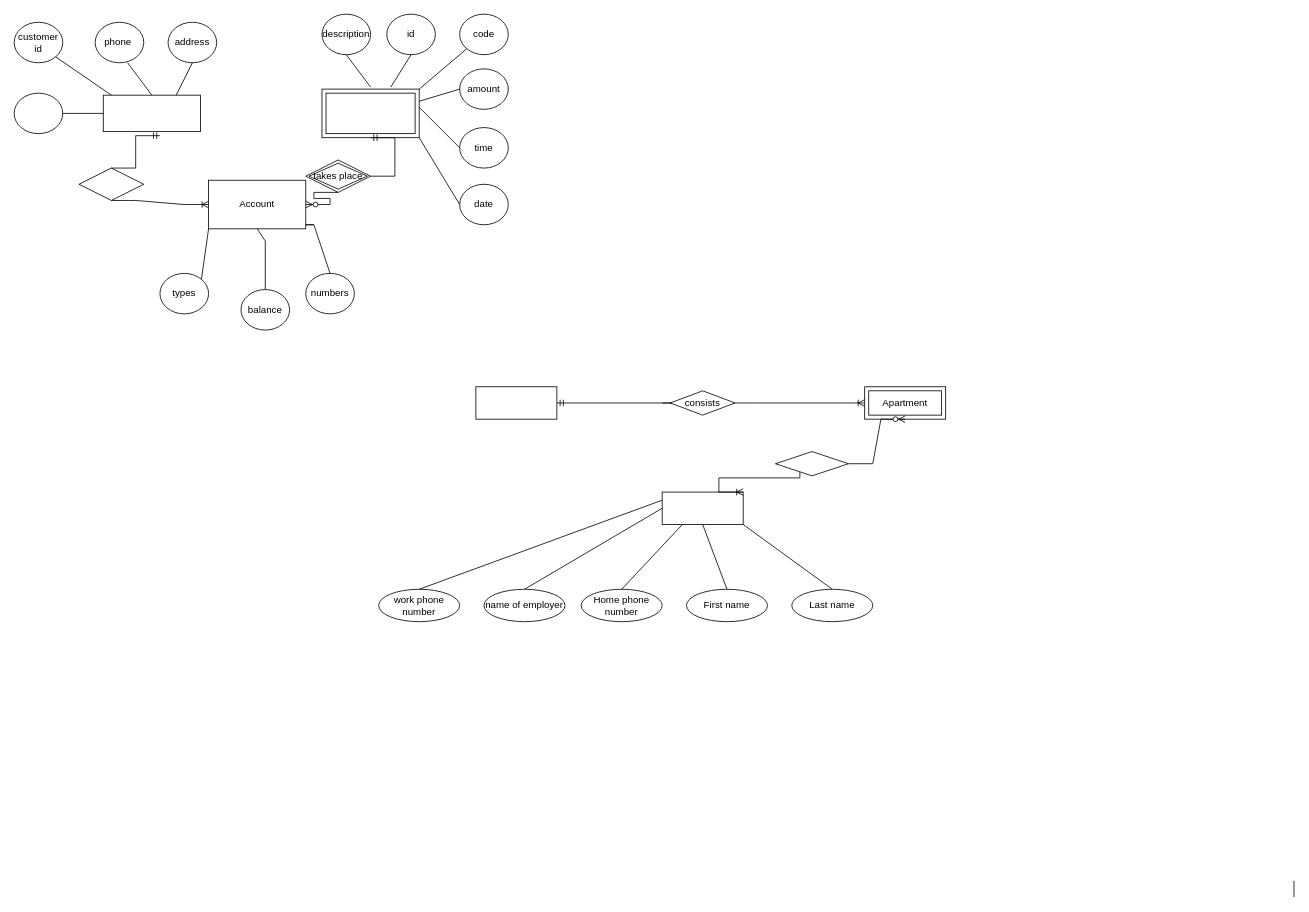
The diagram is 1309 pixels wide and 912 high, and some of its shapes have lost their labels. The centre of each missing label's shape, as x and y in pixels:
"Building" goes at pixel 516 402.
"Customers" goes at pixel 151 113.
"name" goes at pixel 38 113.
"owns" goes at pixel 111 183.
"rent" goes at pixel 811 463.
"Tenant" goes at pixel 702 507.
"Transaction" goes at pixel 370 113.
